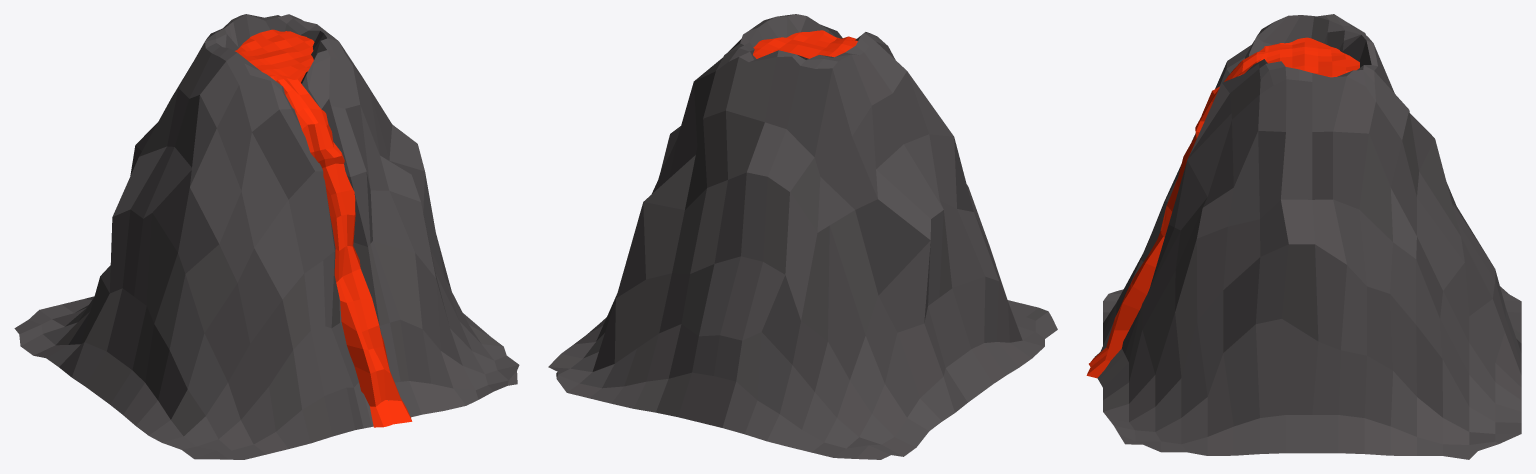
The model's file is Volcano_Ver1.fbx.
The picture shows the model from 3 angles, left to right: view 1: azimuth 30°, elevation 25°; view 2: azimuth 150°, elevation 25°; view 3: azimuth 270°, elevation 25°; orthographic projection. The views are drawn at different scales.
Visible parts, largest first — view 1: Volcano, Magma; view 2: Volcano, Magma; view 3: Volcano, Magma.
Part boxes in pixels (x1,y1,x2,y2): Volcano: [14, 14, 519, 459]; Magma: [235, 29, 412, 427]; Volcano: [548, 14, 1057, 459]; Magma: [753, 30, 857, 58]; Volcano: [1095, 14, 1521, 459]; Magma: [1086, 37, 1359, 378].
Size of the model in its own units: 1200 by 1057 by 1248.
